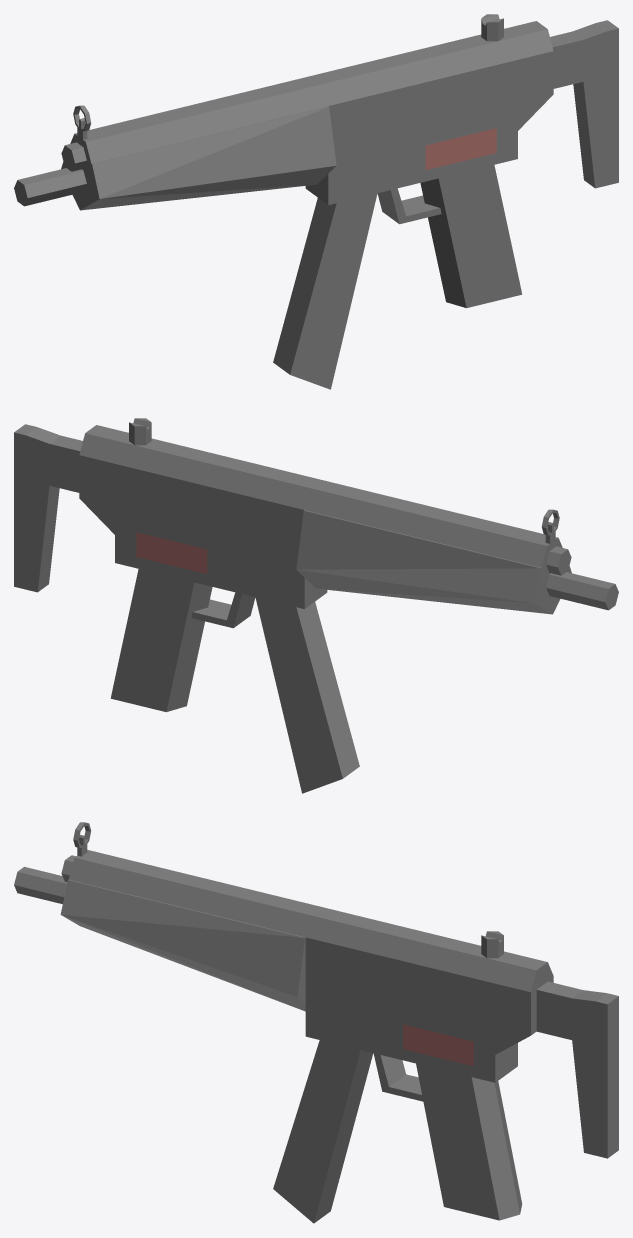
3 renders of one model, top to bottom at view 1: azimuth 30°, elevation 25°; view 2: azimuth 150°, elevation 25°; view 3: azimuth 330°, elevation 25°, orthographic.
Parts seen in each view (by area): view 1: MP5; view 2: MP5; view 3: MP5.
Boxes of the visible parts, x1,y1,x2,y2 form: MP5: (14, 14, 618, 389); MP5: (14, 418, 618, 793); MP5: (14, 822, 618, 1223).
Bounding box in the file's own units: 0.5 × 0.271 × 0.0571.
